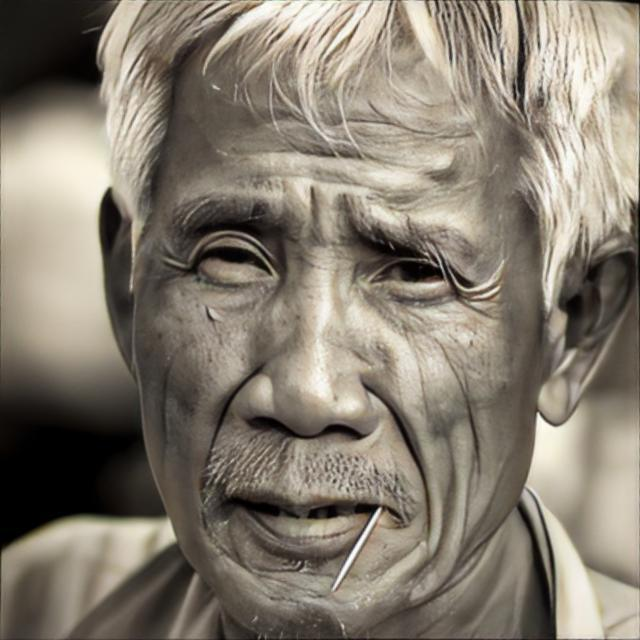sad: (127, 55, 541, 635)
